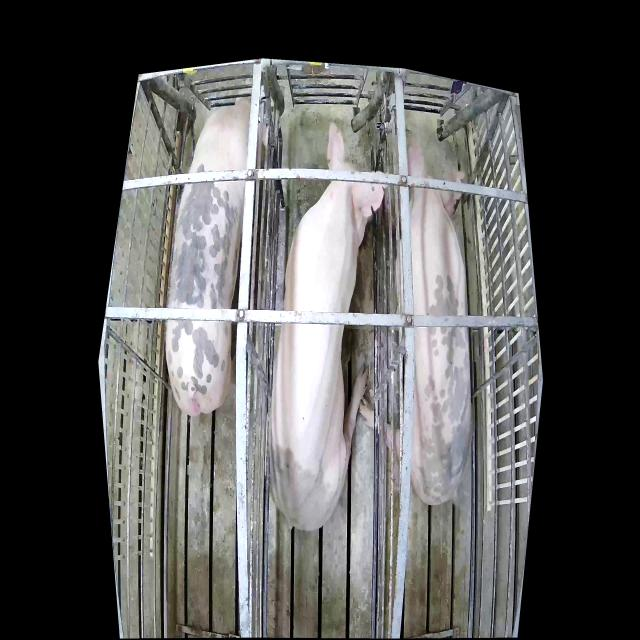pig: (269, 114, 390, 529), (361, 132, 472, 507), (166, 94, 250, 415)
